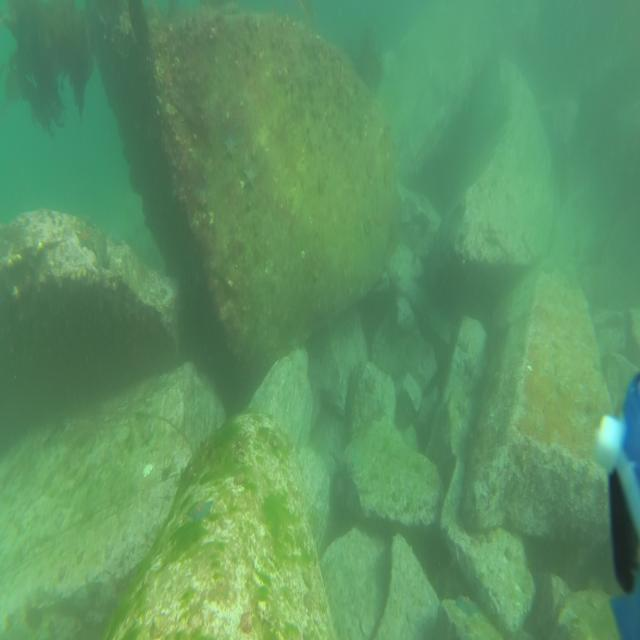starfish: (186, 497, 214, 525), (454, 593, 481, 619), (74, 224, 93, 251), (243, 162, 258, 193), (222, 132, 238, 161), (376, 391, 389, 419), (362, 372, 377, 396), (462, 357, 476, 381), (140, 425, 155, 447), (454, 399, 468, 420), (457, 337, 470, 355), (101, 447, 113, 465)
